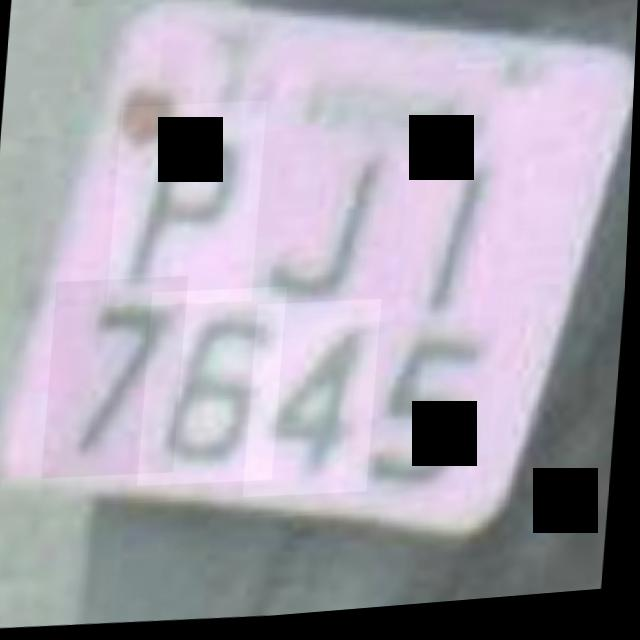4: (247, 301, 385, 506)
5: (346, 320, 503, 508)
6: (141, 287, 290, 493)
7: (45, 275, 191, 484)
J: (244, 126, 412, 327)
P: (109, 100, 268, 314)
